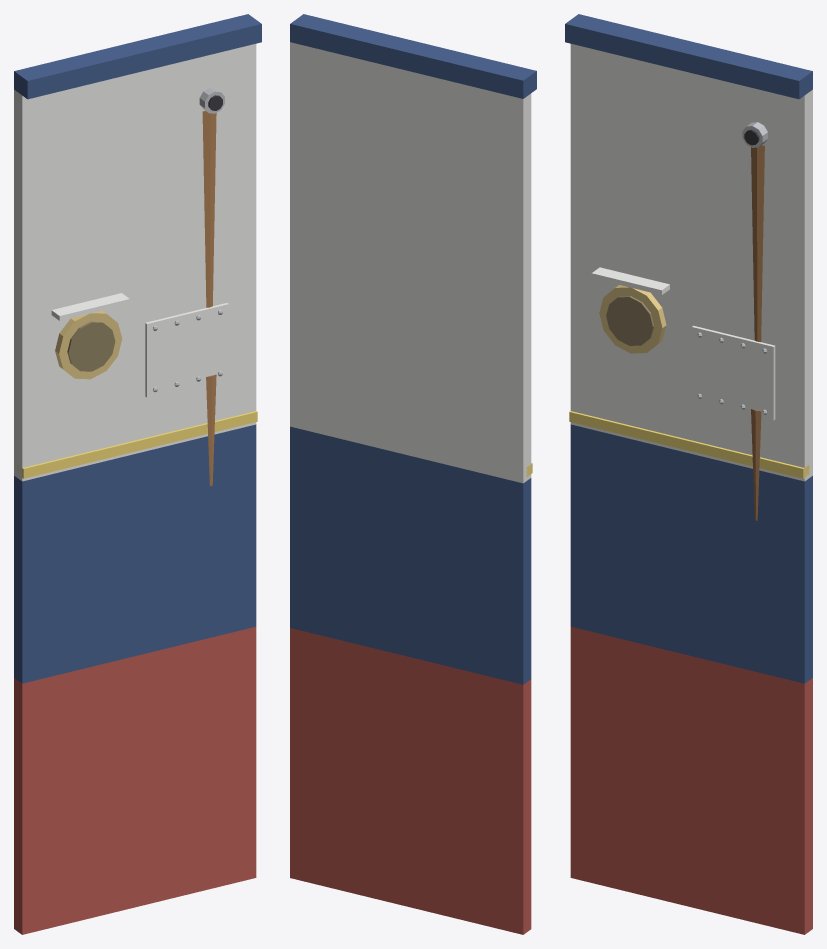
File: CR_Casco_B.fbx
The picture shows the model from 3 angles, left to right: view 1: azimuth 30°, elevation 25°; view 2: azimuth 150°, elevation 25°; view 3: azimuth 330°, elevation 25°; orthographic projection.
Visible parts, largest first — view 1: CR_Casco_B; view 2: CR_Casco_B; view 3: CR_Casco_B.
Boxes of the visible parts, box(x1,y1,x2,y2) form: CR_Casco_B: box(14, 14, 261, 934); CR_Casco_B: box(290, 14, 536, 934); CR_Casco_B: box(565, 14, 812, 934).
Size of the model in its own units: 2 by 7 by 0.24.
